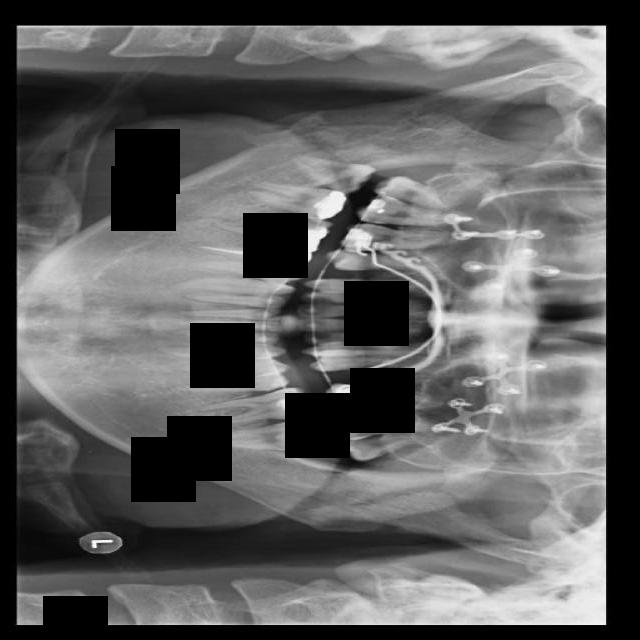3M ESPE Implant: (372, 169, 448, 211)
52: (294, 179, 351, 234), (283, 209, 335, 262), (276, 248, 310, 270)
73: (195, 243, 282, 264), (86, 501, 94, 514)
BioHorizons Implant: (324, 412, 432, 447)
BioLife Implant: (338, 433, 420, 464)
Blue Sky Bio Implant: (209, 417, 313, 451)
Caries: (356, 194, 451, 230)
Implant: (246, 179, 346, 223)
Keystone Dental Implant: (291, 154, 376, 197)
